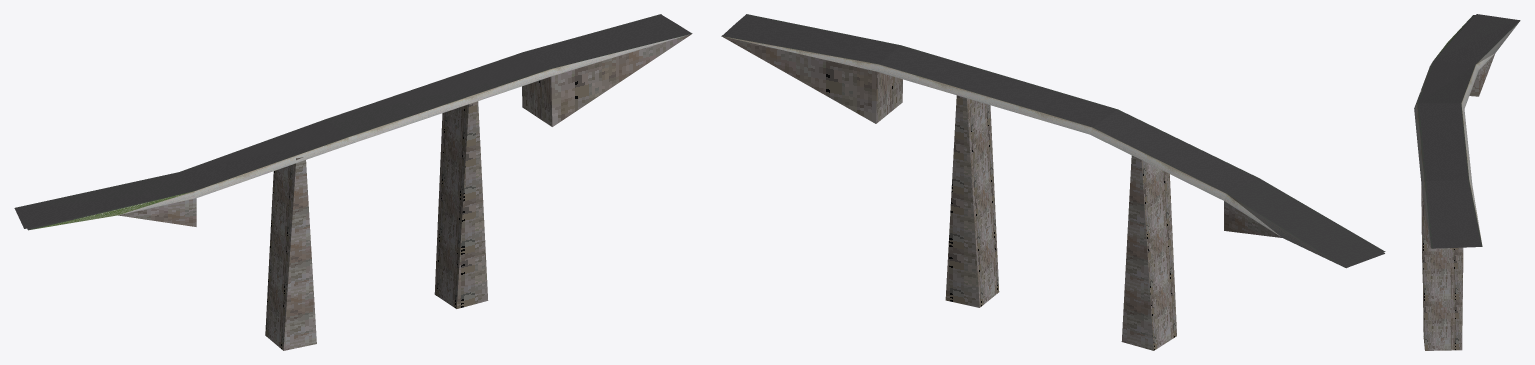
The model's file is lodroad_hilllawn15.obj.
3 renders of one model, left to right at view 1: azimuth 30°, elevation 25°; view 2: azimuth 150°, elevation 25°; view 3: azimuth 270°, elevation 25°, orthographic. The views are drawn at different scales.
Visible parts, largest first — view 1: LODroad_hillLAwn15; view 2: LODroad_hillLAwn15; view 3: LODroad_hillLAwn15.
Part boxes in pixels (left/top/right/bottom): LODroad_hillLAwn15: left=14, top=14, right=692, bottom=350; LODroad_hillLAwn15: left=721, top=14, right=1385, bottom=350; LODroad_hillLAwn15: left=1414, top=14, right=1520, bottom=350.
Bounding box in the file's own units: 150 × 48.14 × 23.59.
4 materials, 4 textured.
